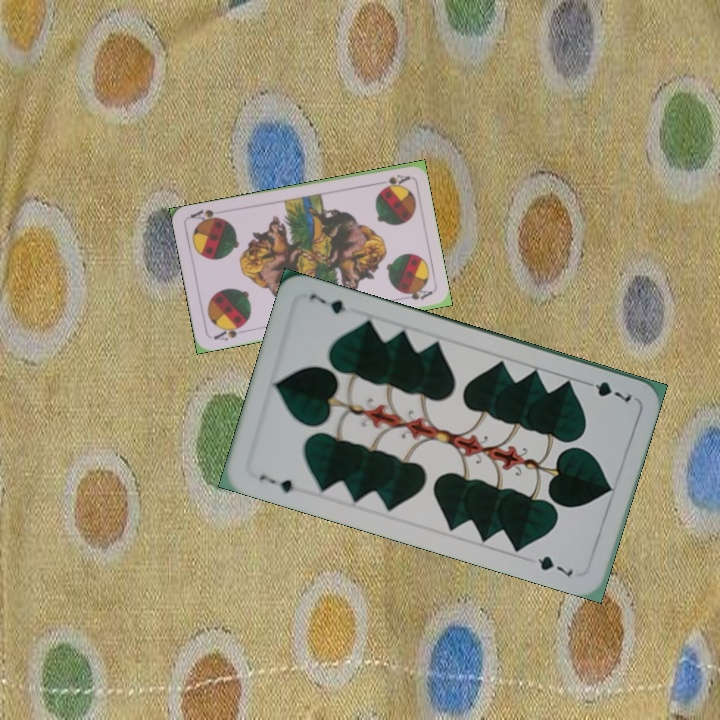G7: (579, 376, 635, 405), (255, 470, 297, 496)
SA: (210, 320, 248, 343), (371, 170, 412, 191)
